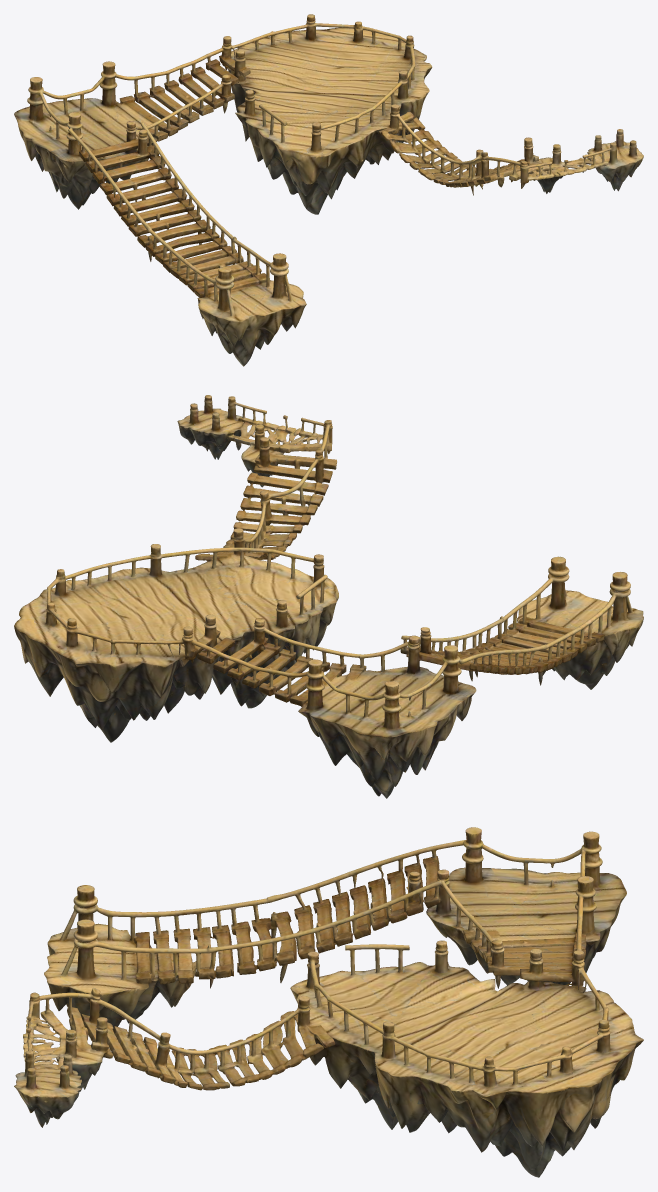
Rendered from Echelle.glb.
3 views of the same model, one above another, from view 1: azimuth 30°, elevation 25°; view 2: azimuth 150°, elevation 25°; view 3: azimuth 270°, elevation 25° (orthographic). The views are drawn at different scales.
Size of the model in its own units: 1.89 by 0.6843 by 1.9.
1 material, 1 textured.
